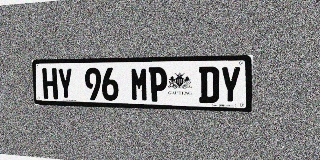6: (101, 67, 119, 101)
9: (85, 68, 102, 100)
D: (199, 66, 219, 103)
H: (42, 68, 58, 99)
M: (130, 67, 149, 101)
P: (149, 67, 167, 102)
Y: (220, 66, 241, 104), (57, 68, 74, 100)
